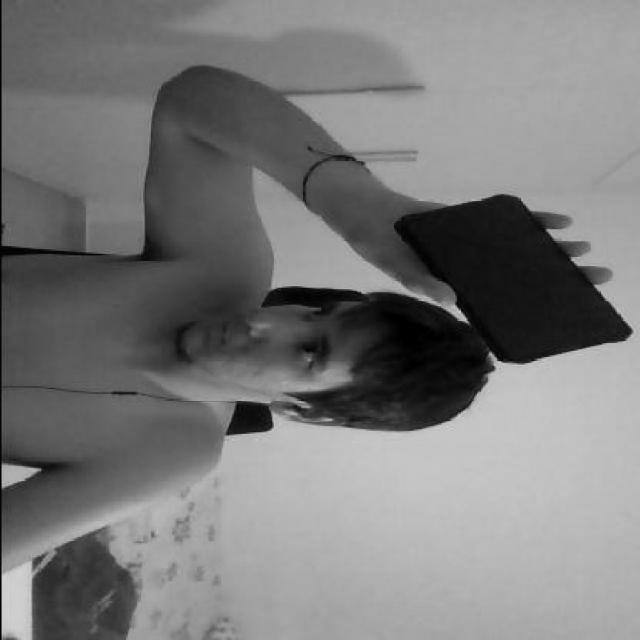fake: (396, 193, 630, 362)
real: (178, 291, 380, 394)
